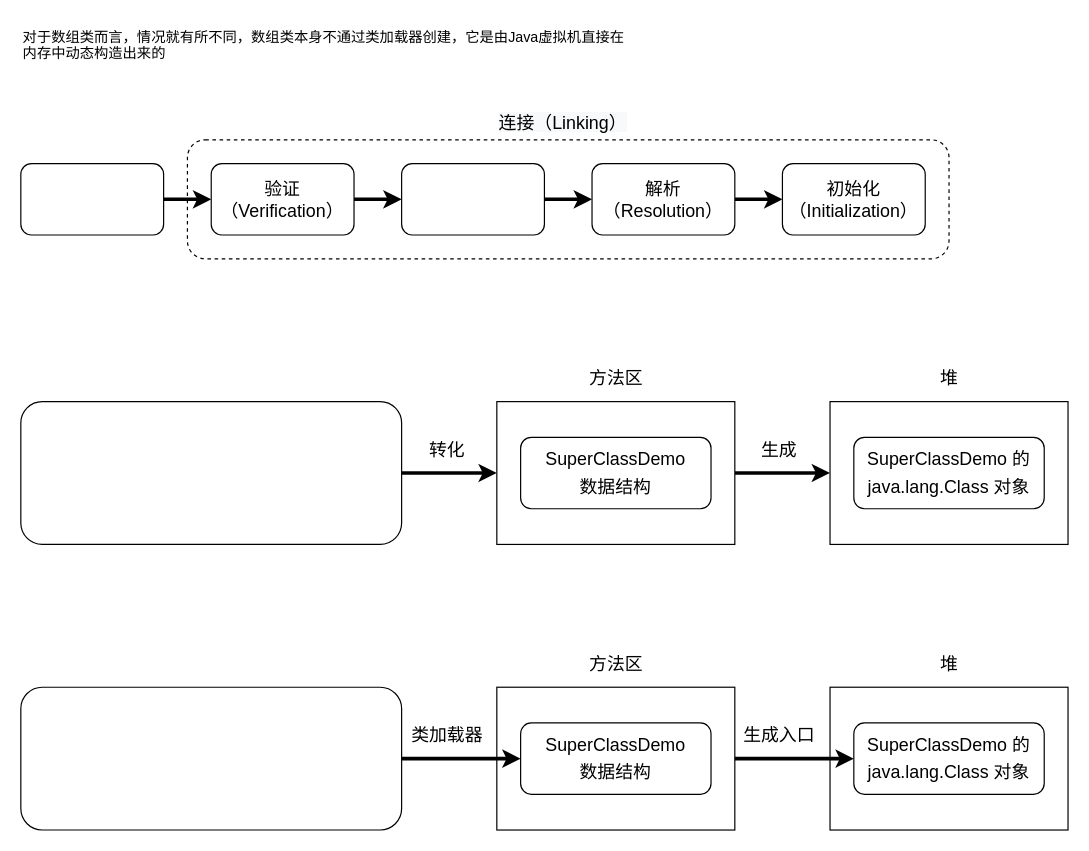
Image size: 1089x851. Some labels were removed from this diagram. Each missing label, with the centre of its shape:
"com.zero.demo.SuperClassDemo.class" goes at point 211,758.
"准备 （Preparation）" goes at point 472,198.
"加载 （Loading）" goes at point 92,198.
"通过（com.zero.demo.SuperClassDemo） 获取 SuperClassDemo.class 的二进制字节流" goes at point 211,472.
